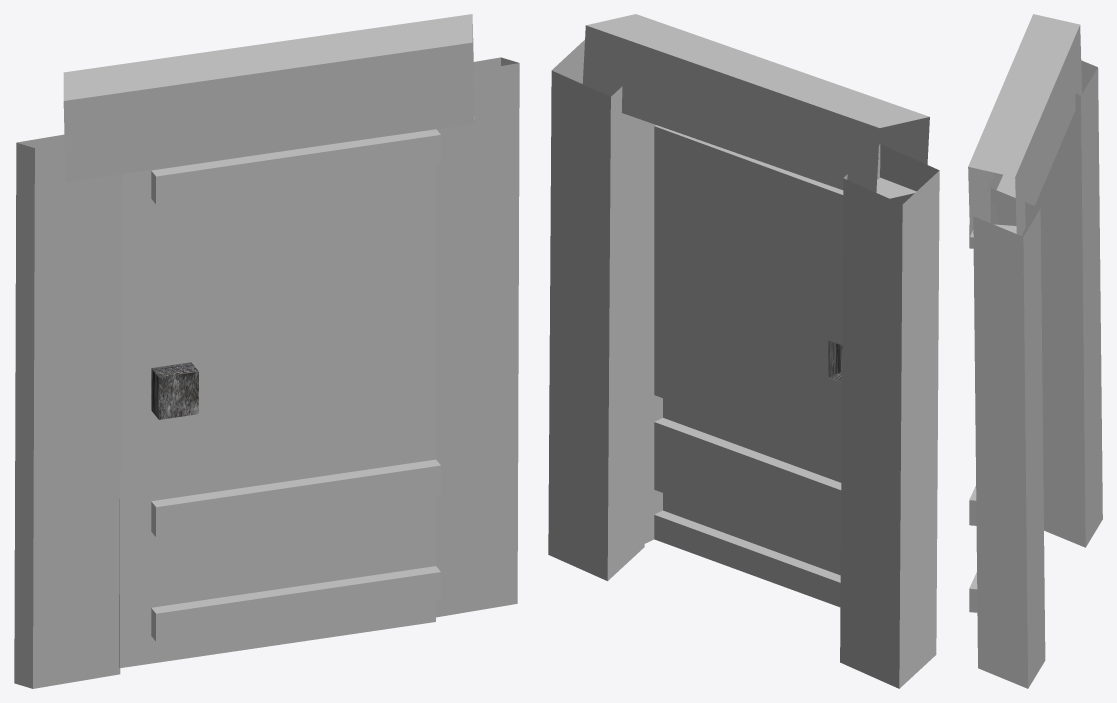
The model's file is Door.fbx.
3 renders of one model, left to right at view 1: azimuth 30°, elevation 25°; view 2: azimuth 150°, elevation 25°; view 3: azimuth 270°, elevation 25°, orthographic. The views are drawn at different scales.
Visible parts, largest first — view 1: pasted__Wood_Beam3; view 2: pasted__Wood_Beam3; view 3: pasted__Wood_Beam3.
Boxes of the visible parts, x1=… form: pasted__Wood_Beam3: x1=14, y1=14, x2=519, y2=688; pasted__Wood_Beam3: x1=548, y1=14, x2=939, y2=688; pasted__Wood_Beam3: x1=968, y1=14, x2=1102, y2=688.
Bounding box in the file's own units: 64.28 × 83.17 × 19.95.
